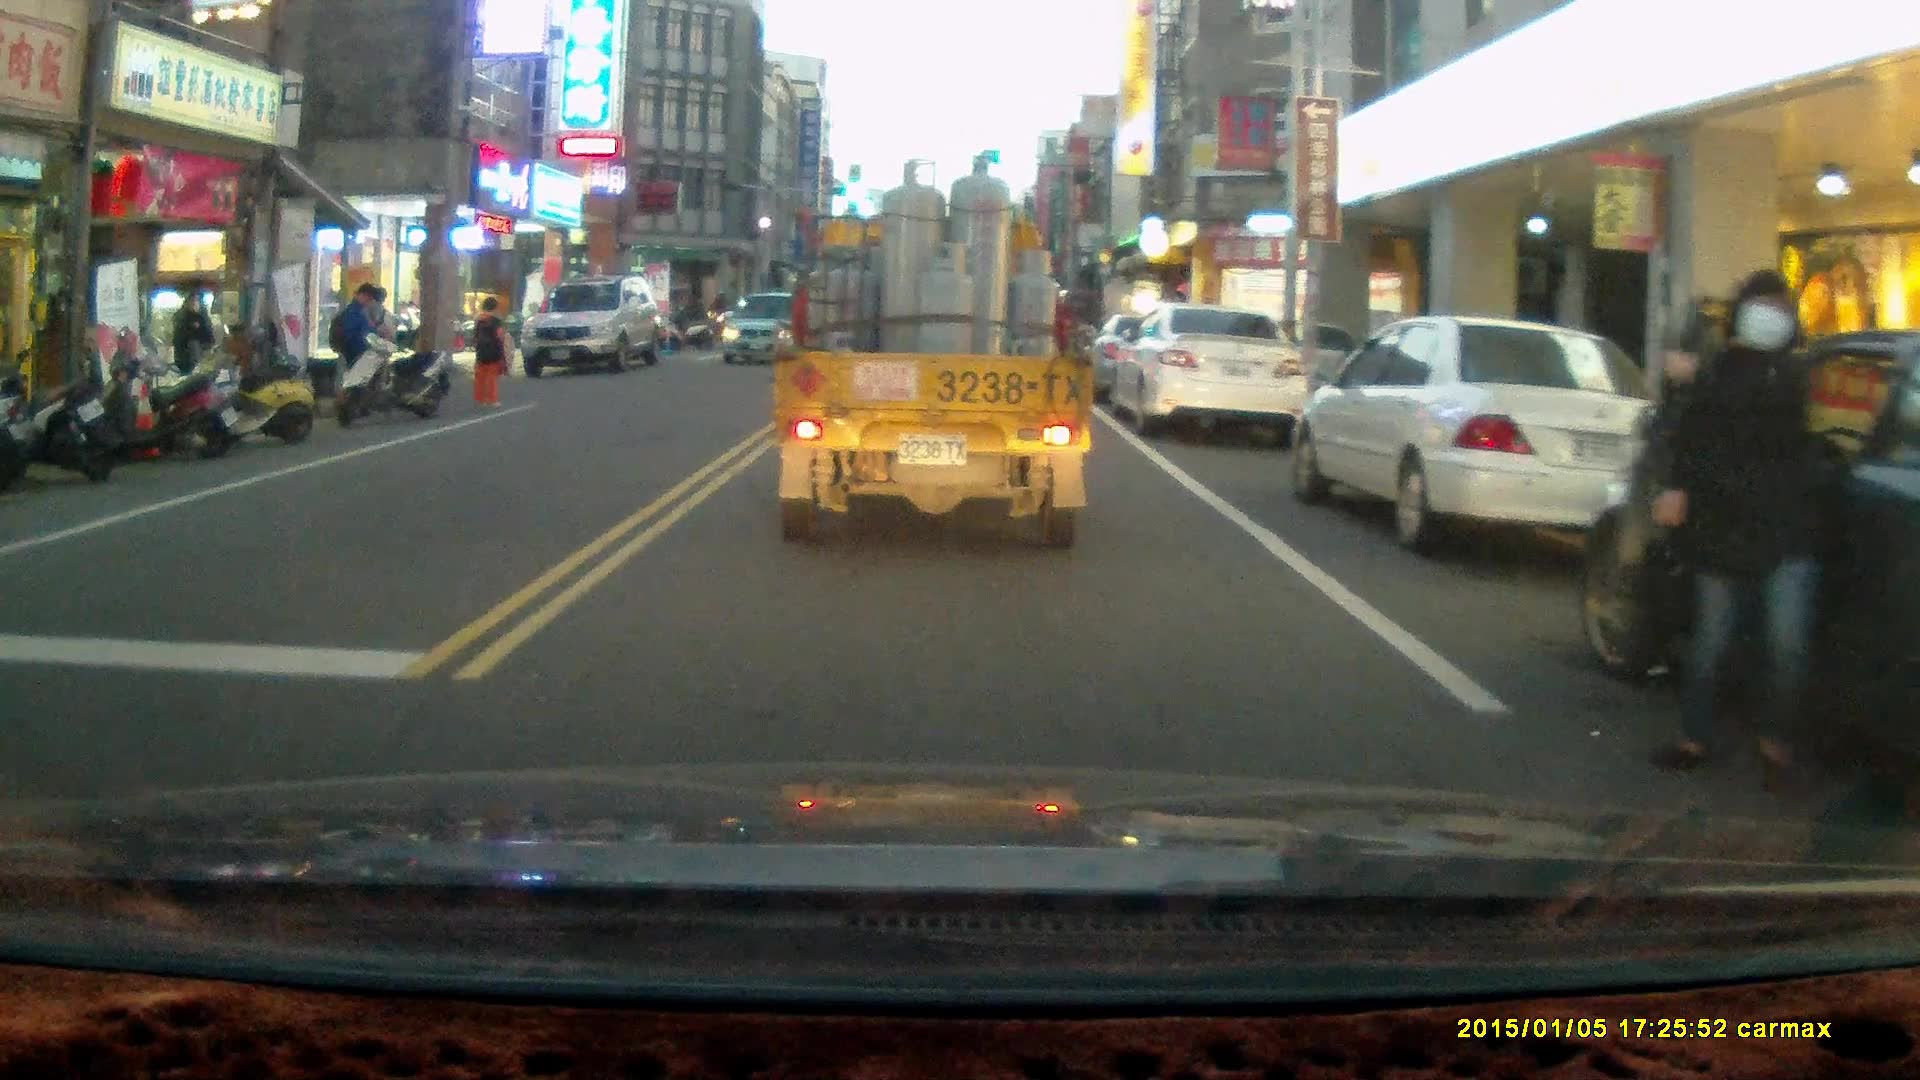pedestrian: (1646, 267, 1827, 793), (321, 279, 376, 413), (169, 285, 213, 423), (470, 292, 512, 410)
vehicle: (1576, 324, 1920, 795), (767, 152, 1097, 548), (1286, 314, 1699, 554), (1116, 304, 1308, 433), (523, 277, 672, 373), (720, 290, 817, 368)
